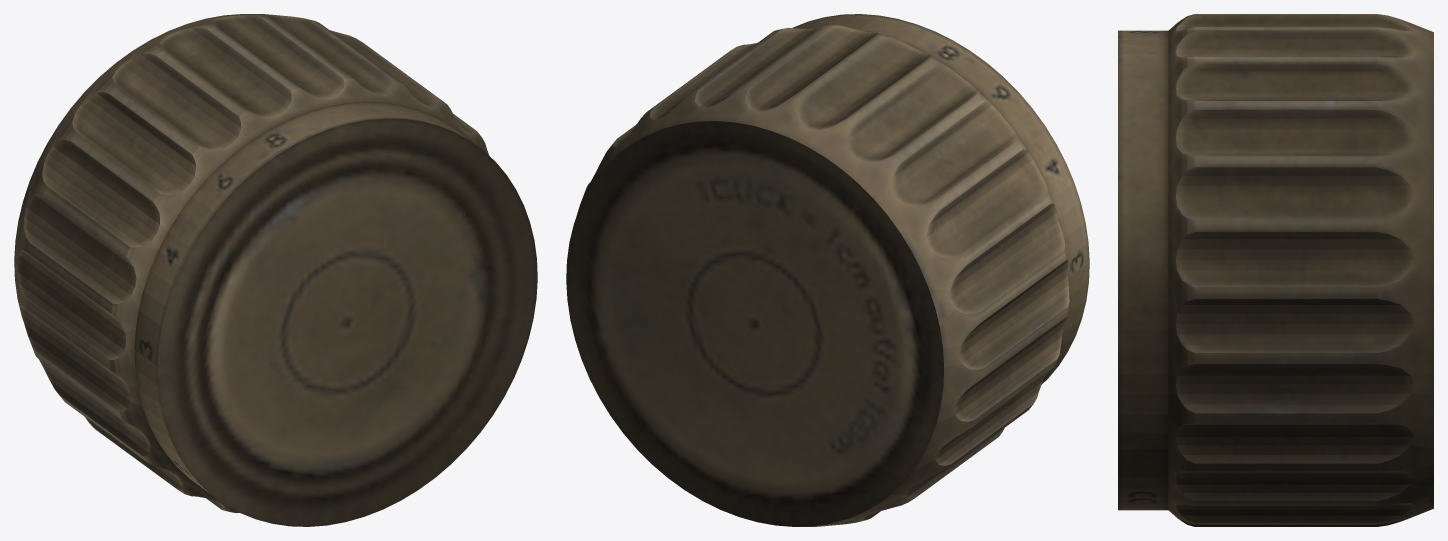
The picture shows the model from 3 angles, left to right: view 1: azimuth 30°, elevation 25°; view 2: azimuth 150°, elevation 25°; view 3: azimuth 270°, elevation 25°; orthographic projection. The views are drawn at different scales.
Visible parts, largest first — view 1: TW_617151c1d92c473c770214ab_PZ_Import; view 2: TW_617151c1d92c473c770214ab_PZ_Import; view 3: TW_617151c1d92c473c770214ab_PZ_Import.
Boxes of the visible parts, x1,y1,x2,y2 form: TW_617151c1d92c473c770214ab_PZ_Import: [14, 14, 537, 526]; TW_617151c1d92c473c770214ab_PZ_Import: [566, 14, 1089, 526]; TW_617151c1d92c473c770214ab_PZ_Import: [1118, 14, 1433, 526].
Size of the model in its own units: 0.0321 by 0.0198 by 0.0321.
1 material, 1 textured.
